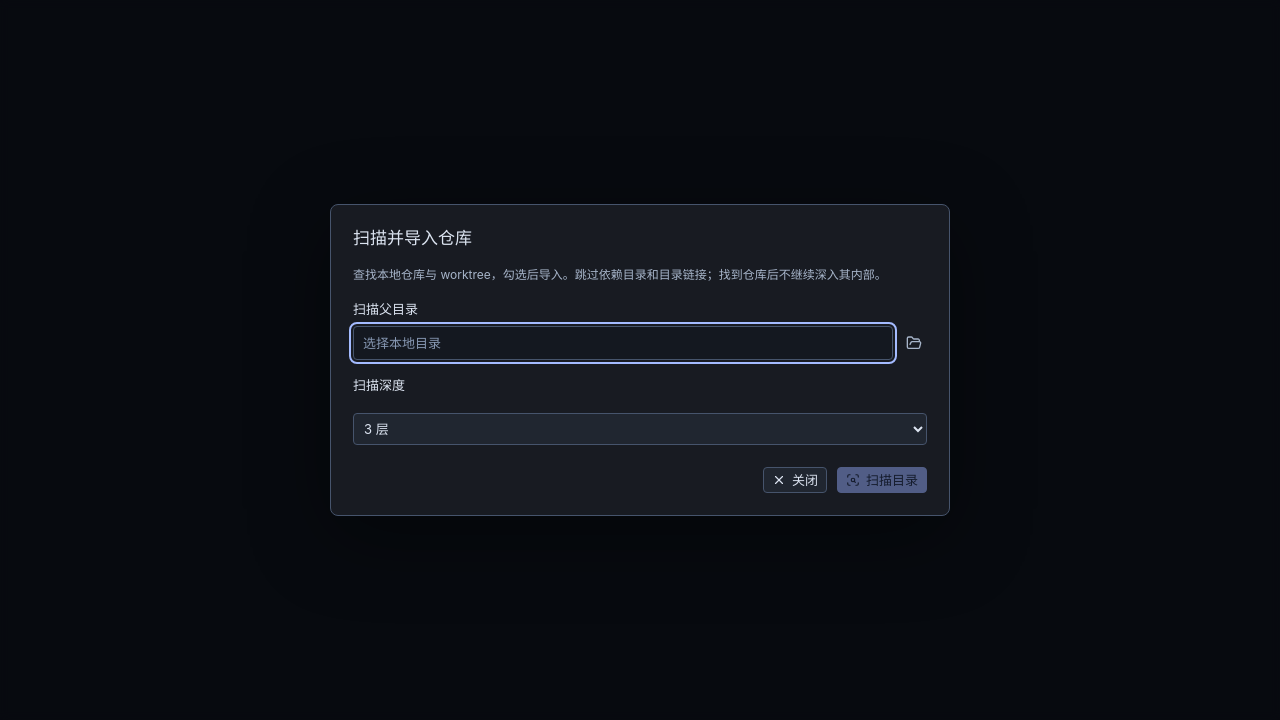
Test: scans before importing and retains only failed selections for retry
This screenshot has width=1280, height=720.
Step 1. Type "/test" into the field named "目标父目录" → (623, 343), box x1=353 y1=326 x2=893 y2=360
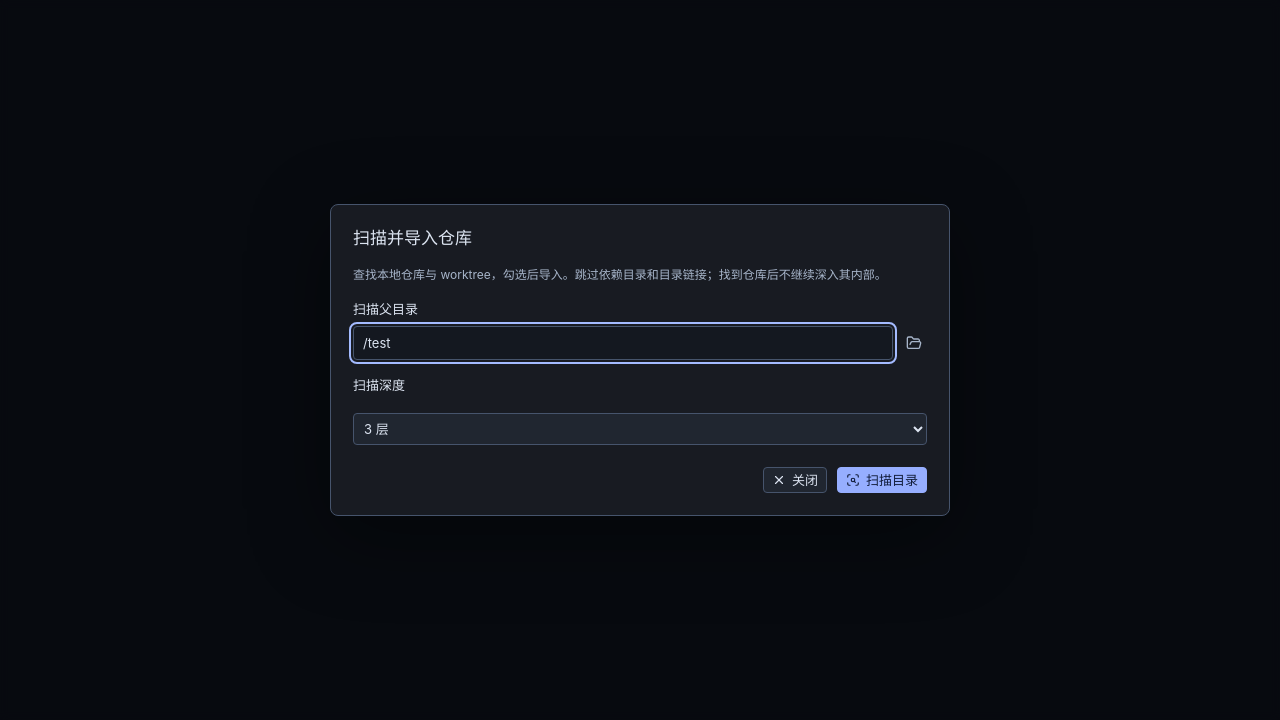
Step 2. Click the button "扫描目录" → (882, 480), box x1=837 y1=467 x2=927 y2=493
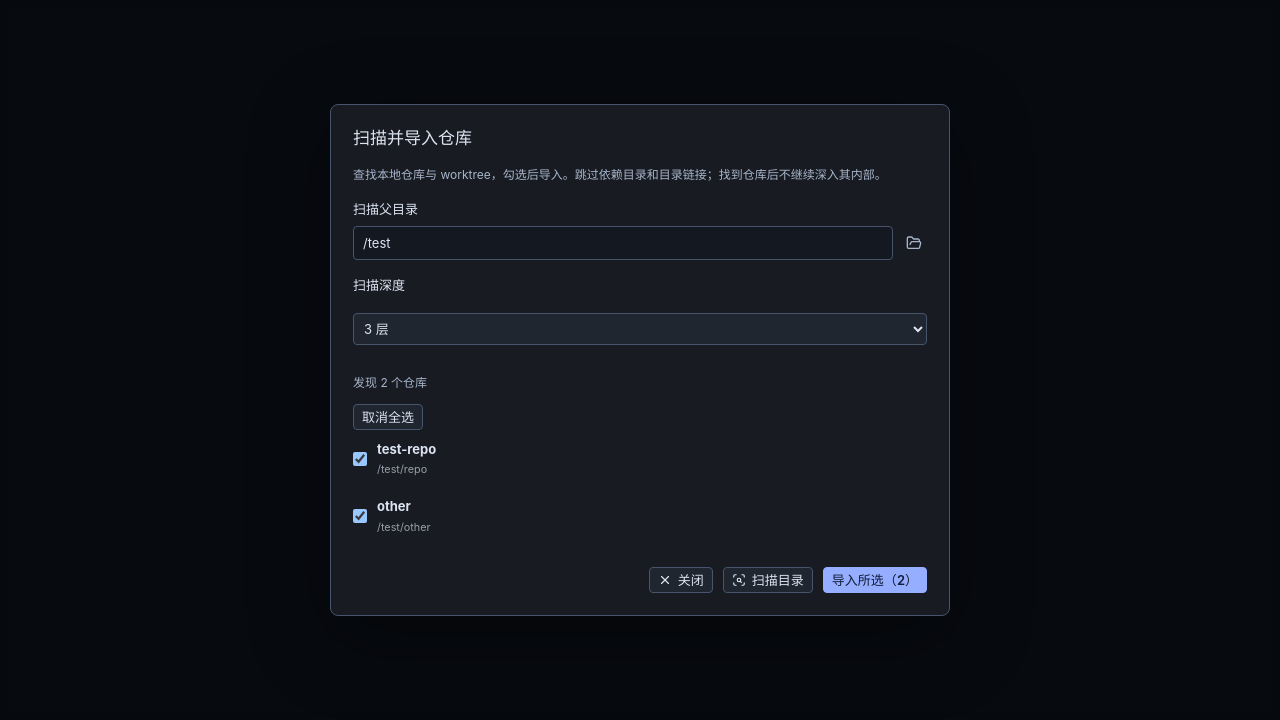
Expected: the text "发现 2 个仓库" is shown, x1=353 y1=375 x2=427 y2=390
Step 3. Click the button "导入所选（2）" → (875, 580), box x1=823 y1=567 x2=927 y2=593
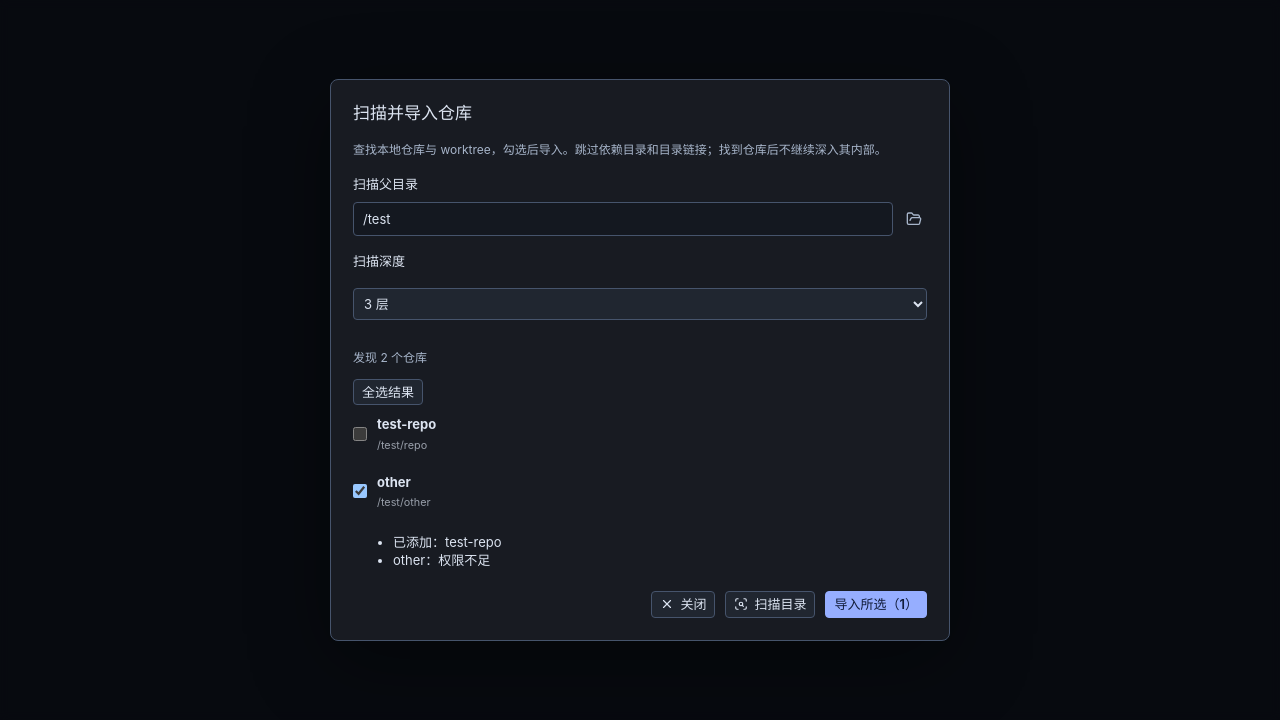
Expected: the list item "other：权限不足" is shown, x1=393 y1=552 x2=490 y2=568
Expected: the button "导入所选（1）" is shown, x1=826 y1=591 x2=927 y2=618
